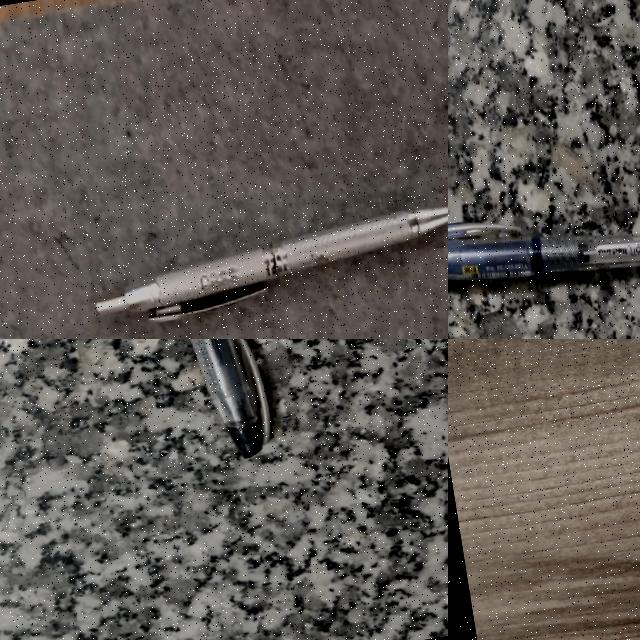pen: (448, 224, 639, 280), (190, 339, 269, 457)
signature pen: (96, 207, 447, 321)
